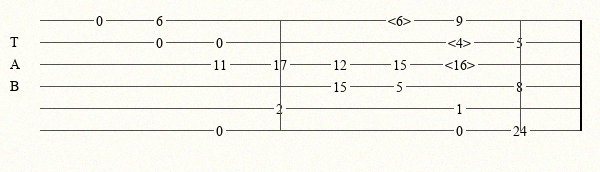0: (96, 13, 107, 27), (156, 35, 167, 49), (216, 123, 227, 137), (216, 35, 227, 49), (456, 123, 467, 137)
1: (456, 101, 467, 115)
11: (213, 57, 231, 71)
12: (333, 57, 351, 71)
15: (333, 79, 351, 93), (393, 57, 411, 71)
17: (273, 57, 291, 71)
2: (276, 101, 287, 115)
24: (513, 123, 531, 137)
5: (396, 79, 407, 93), (516, 35, 527, 49)
6: (156, 13, 167, 27)
8: (516, 79, 527, 93)
9: (456, 13, 467, 27)
harmonic: (445, 57, 479, 71), (388, 13, 415, 27), (448, 35, 475, 49)
